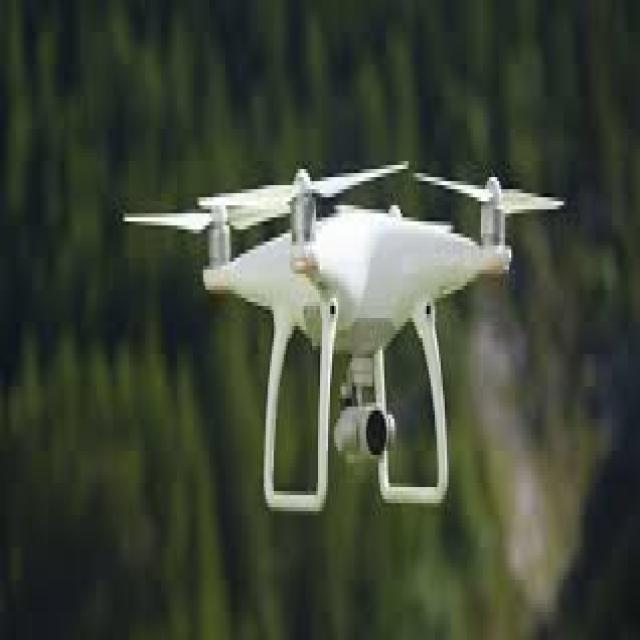drones: (120, 157, 578, 544)
